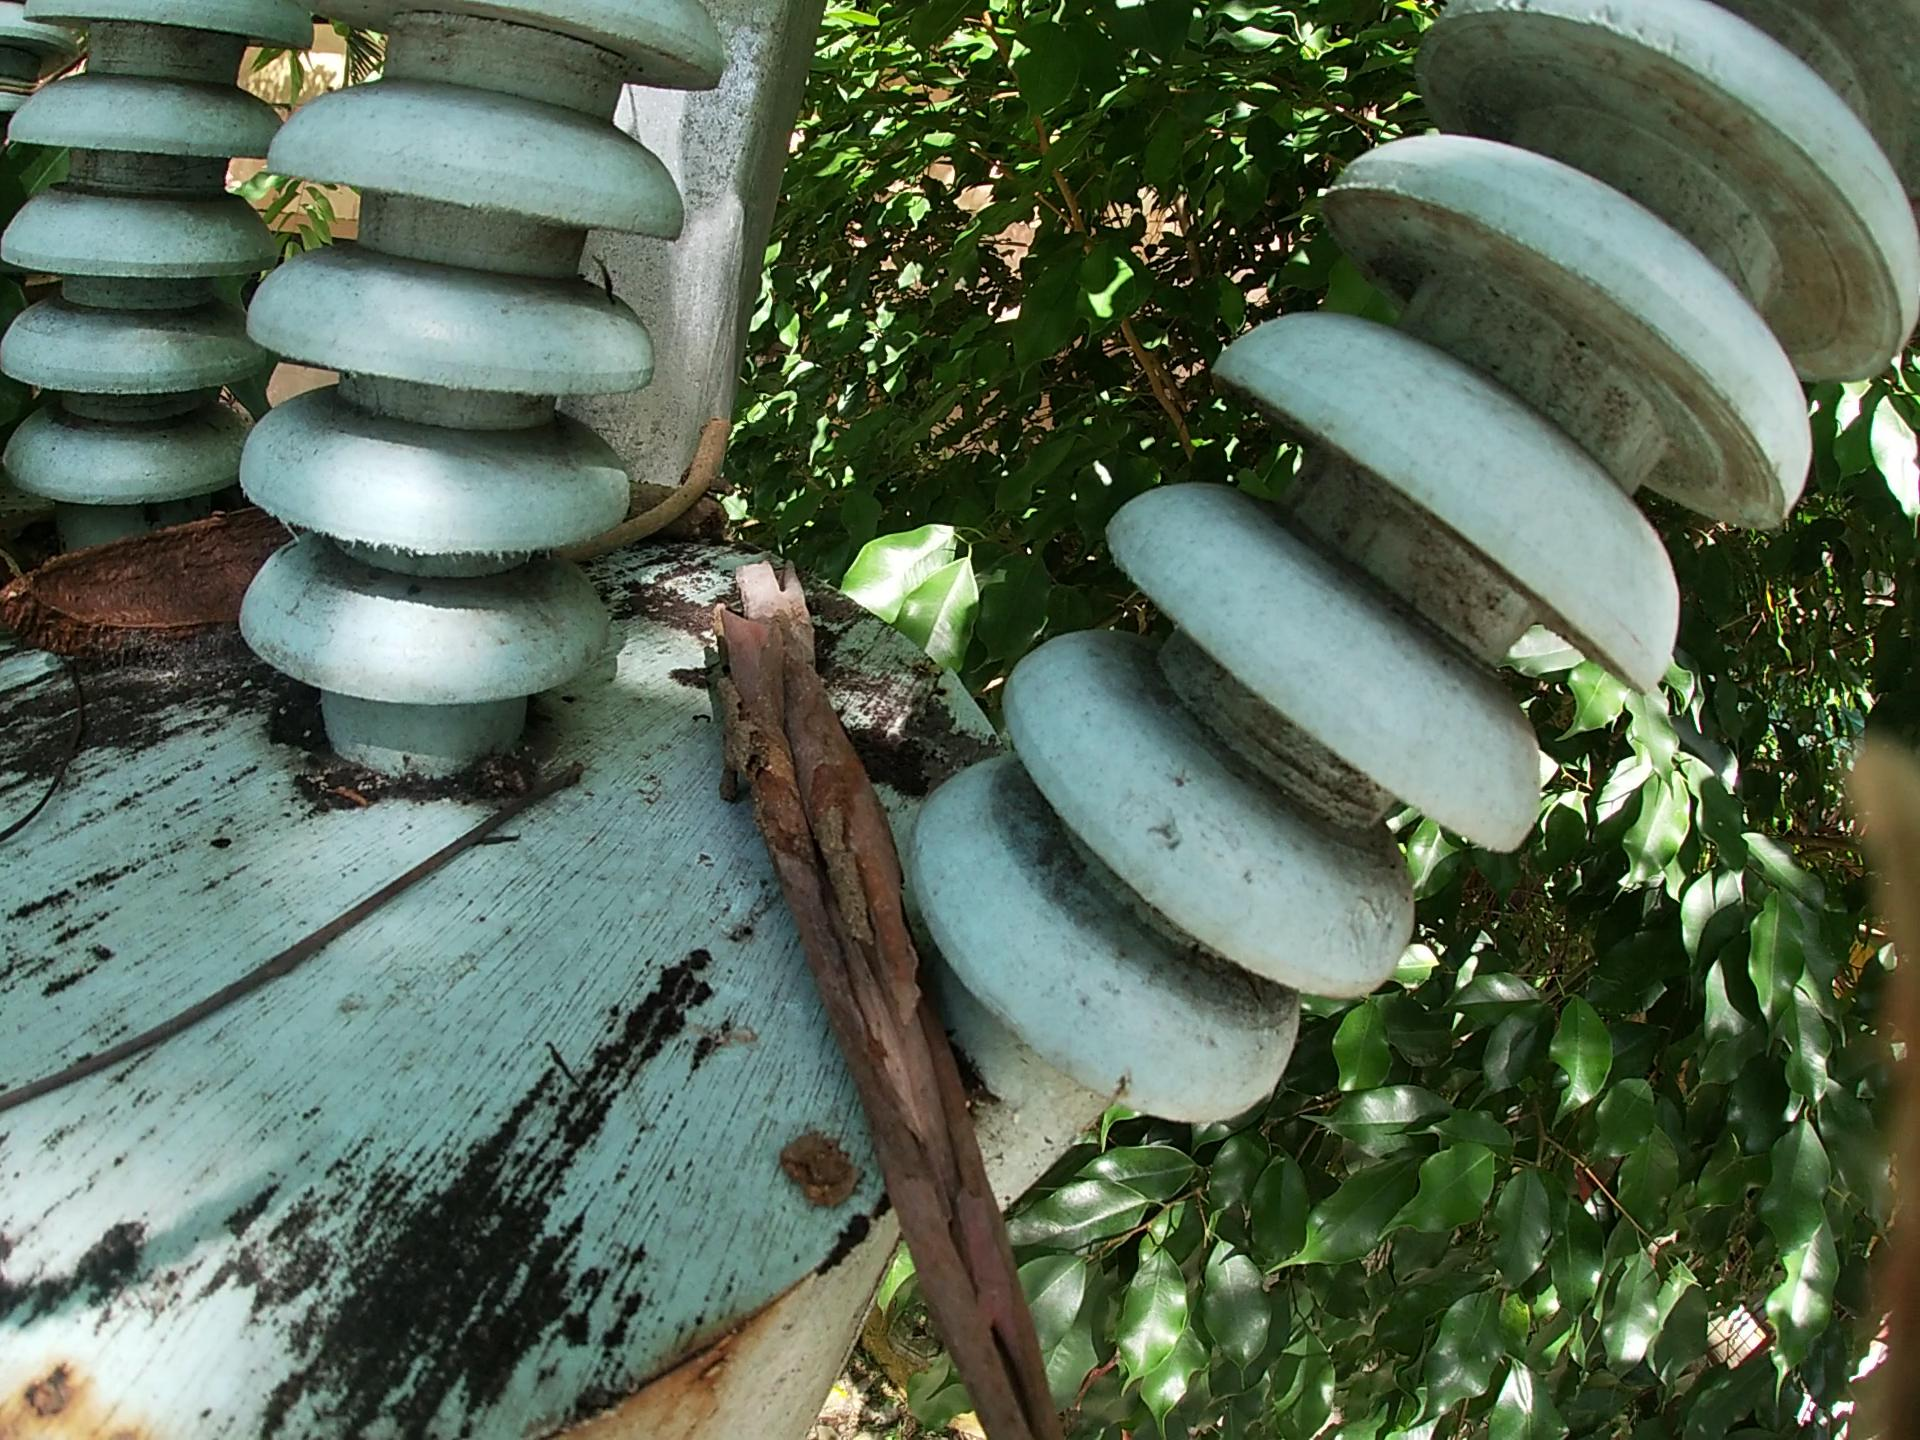leaf: (2, 67, 129, 351)
mahogany fruit: (26, 501, 348, 685)
tree branch: (701, 542, 1149, 1440), (2, 753, 597, 1125), (599, 401, 742, 579), (2, 637, 100, 846), (597, 458, 729, 537)
